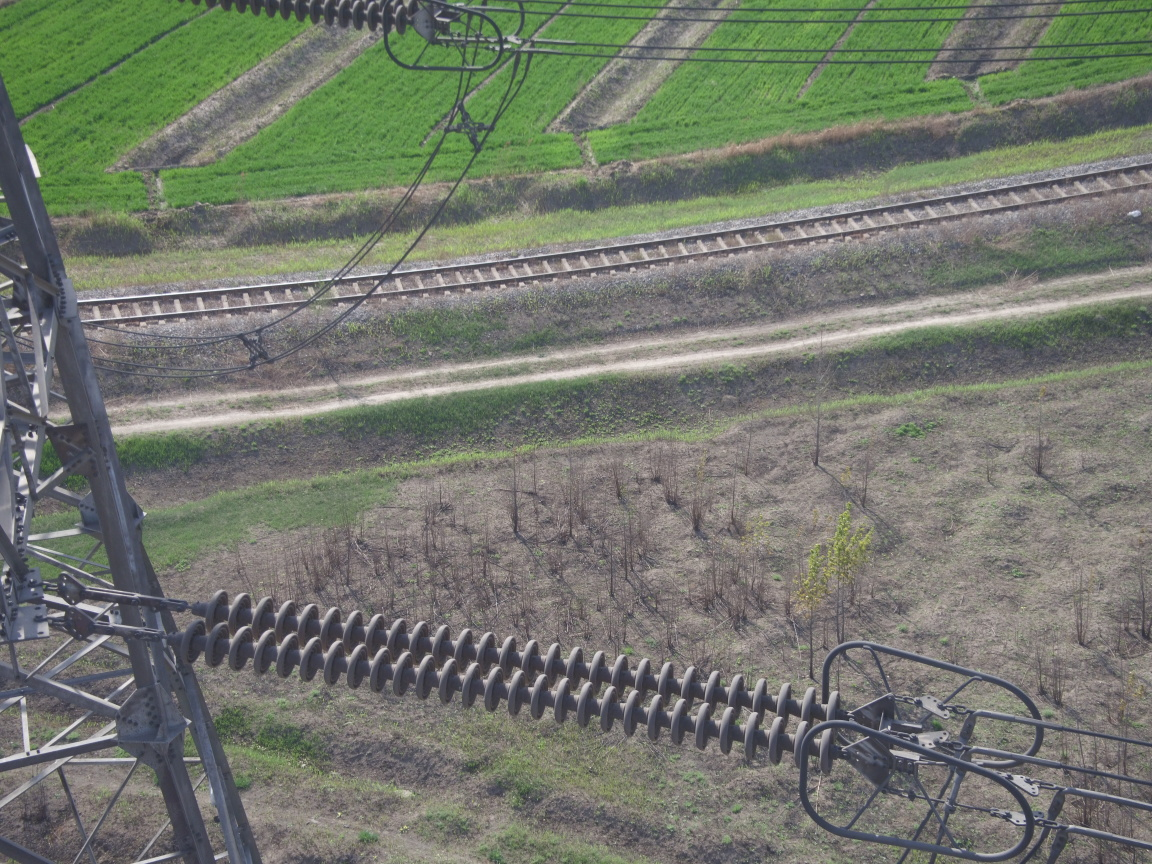insulator: (137, 583, 873, 778)
